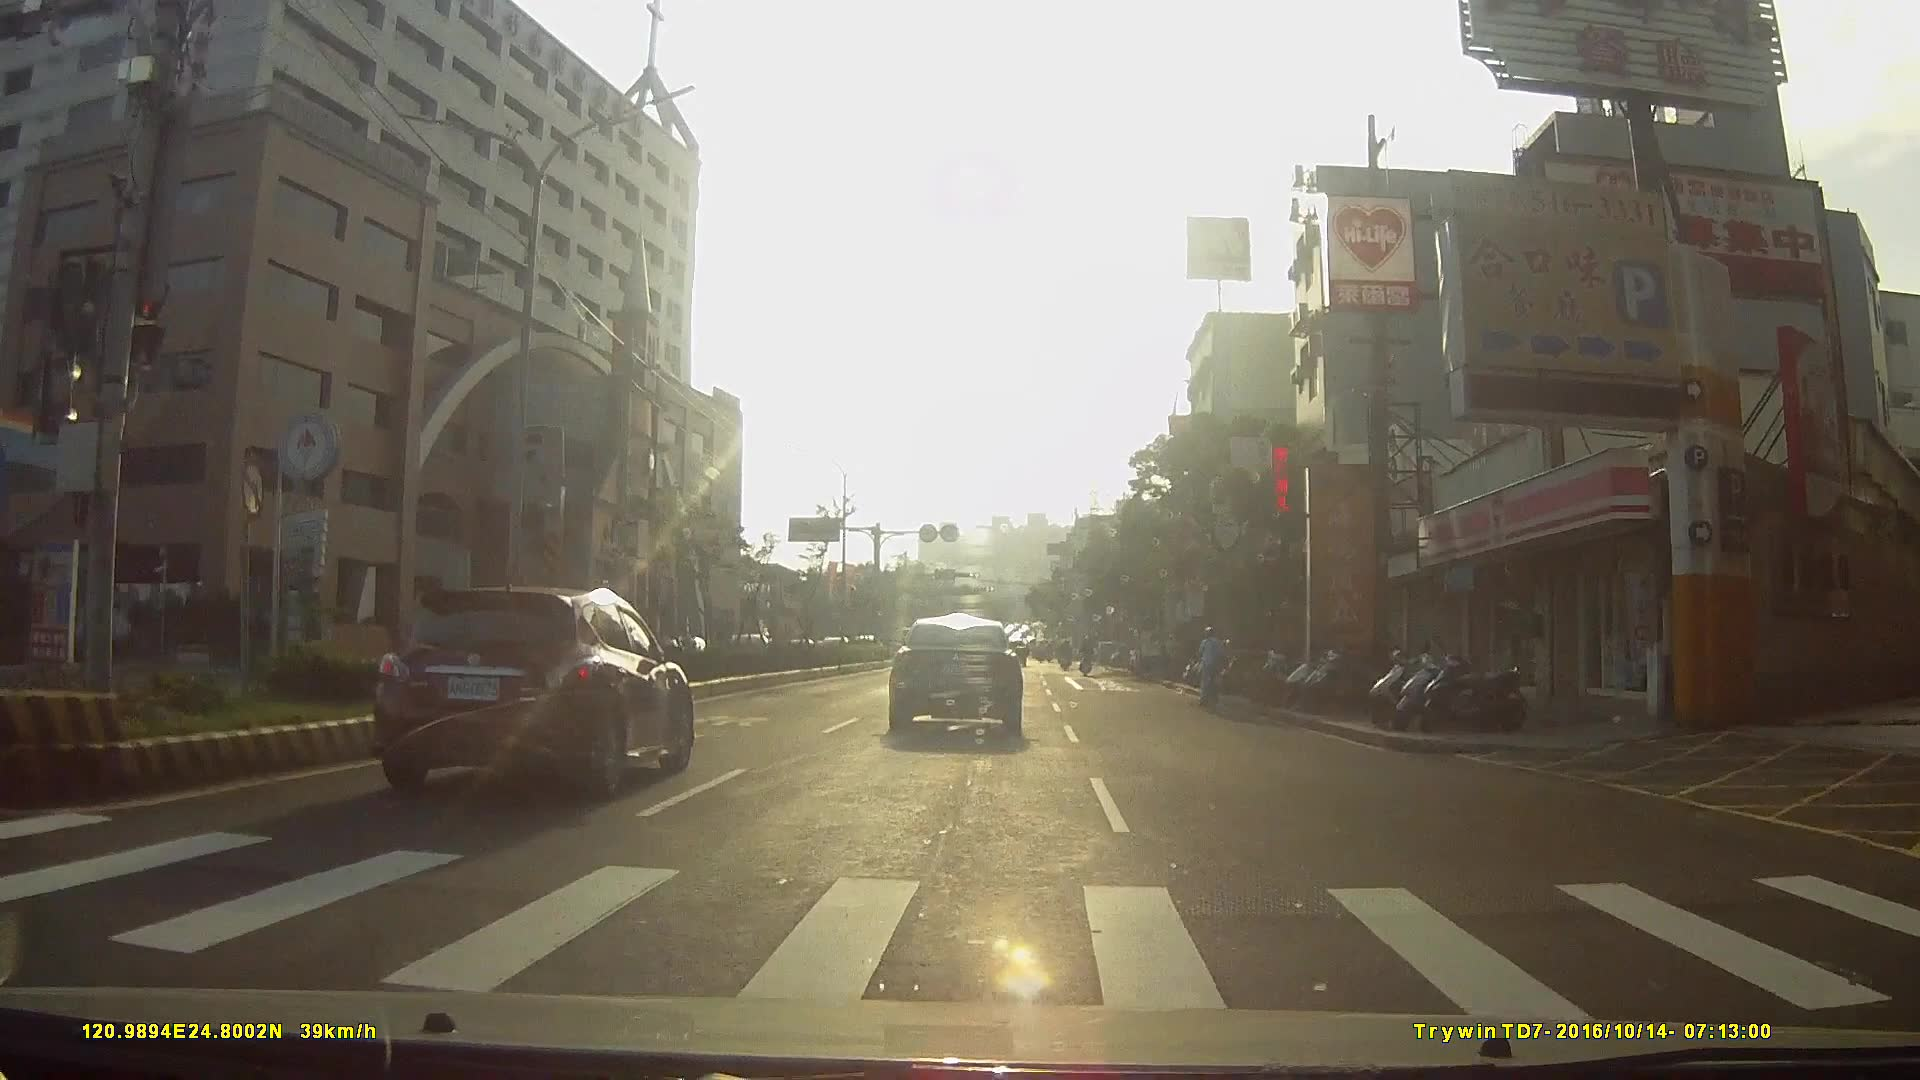rider: (1192, 622, 1229, 706)
vehicle: (364, 573, 703, 805), (887, 612, 1038, 745), (763, 607, 822, 662), (1130, 624, 1181, 677)
